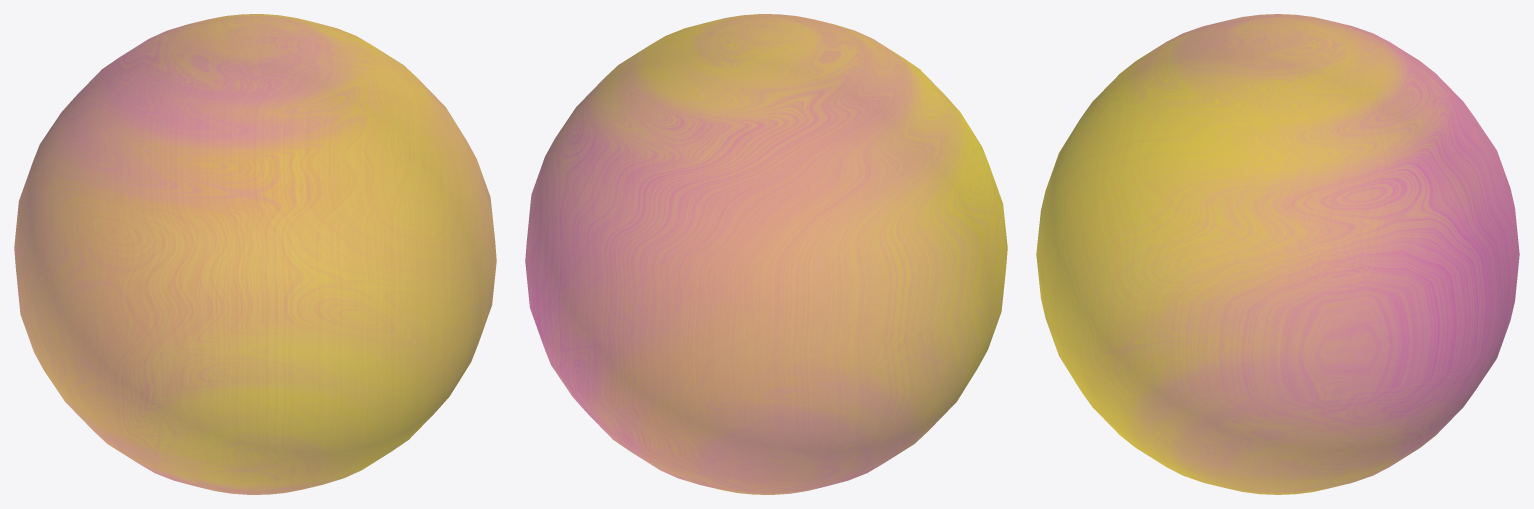
File: BULLESATUREE.glb
3 views of the same model, side by side, from view 1: azimuth 30°, elevation 25°; view 2: azimuth 150°, elevation 25°; view 3: azimuth 270°, elevation 25° (orthographic).
Visible parts, largest first — view 1: Circle; view 2: Circle; view 3: Circle.
Boxes of the visible parts, left/top/right/bottom form: Circle: left=14, top=14, right=496, bottom=494; Circle: left=525, top=14, right=1007, bottom=494; Circle: left=1036, top=14, right=1519, bottom=494.
Size of the model in its own units: 2 by 2.02 by 2.
1 material, 1 textured.
